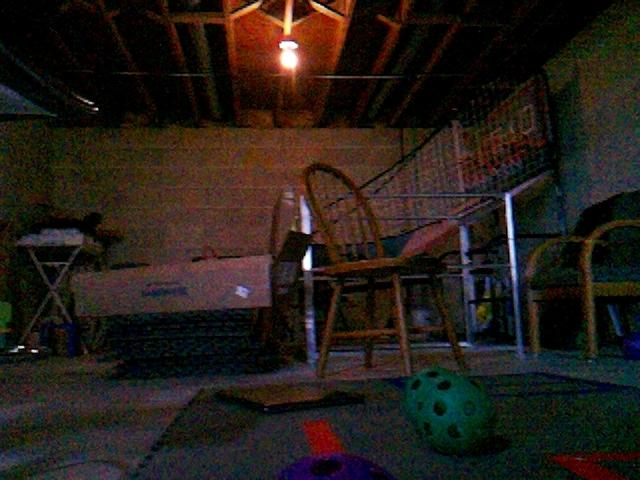Green: (420, 376, 497, 456), (406, 366, 453, 436), (621, 332, 640, 361)
Purple: (276, 453, 396, 480)
